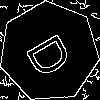D: (24, 26, 82, 81)
